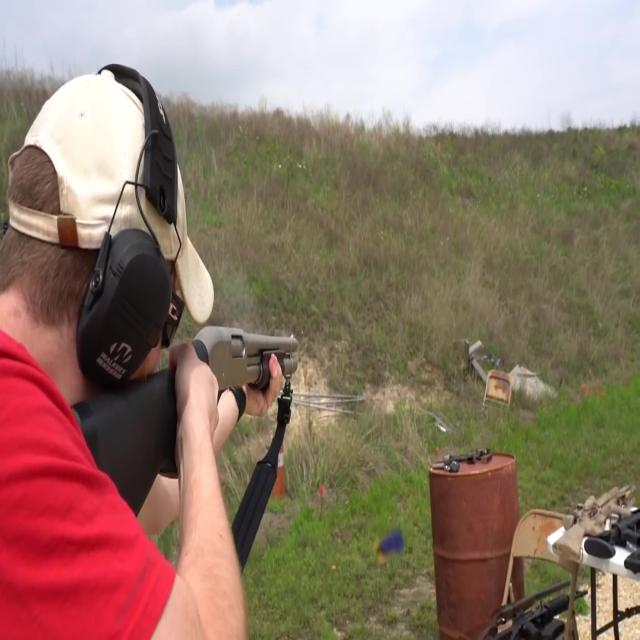Weapon: (36, 290, 314, 509), (404, 395, 512, 504), (474, 559, 608, 640), (538, 466, 640, 568), (361, 515, 422, 579)
